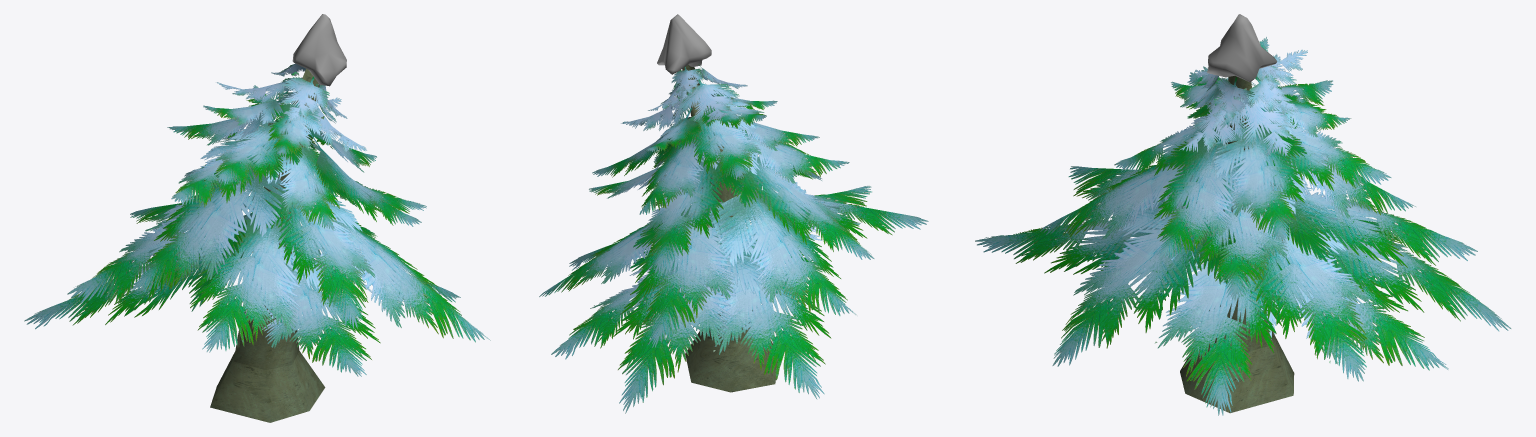
The model's file is songshu_xue2_lod1.FBX.
3 renders of one model, left to right at view 1: azimuth 30°, elevation 25°; view 2: azimuth 150°, elevation 25°; view 3: azimuth 270°, elevation 25°, orthographic. The views are drawn at different scales.
Visible parts, largest first — view 1: 2, 1; view 2: 2, 1; view 3: 2, 1.
Part boxes in pixels (x1,y1,x2,y2): 2: [24, 63, 490, 422]; 1: [292, 14, 346, 86]; 2: [539, 64, 928, 413]; 1: [657, 14, 711, 74]; 2: [975, 37, 1511, 415]; 1: [1207, 14, 1277, 82].
Size of the model in its own units: 146 by 141 by 176.
